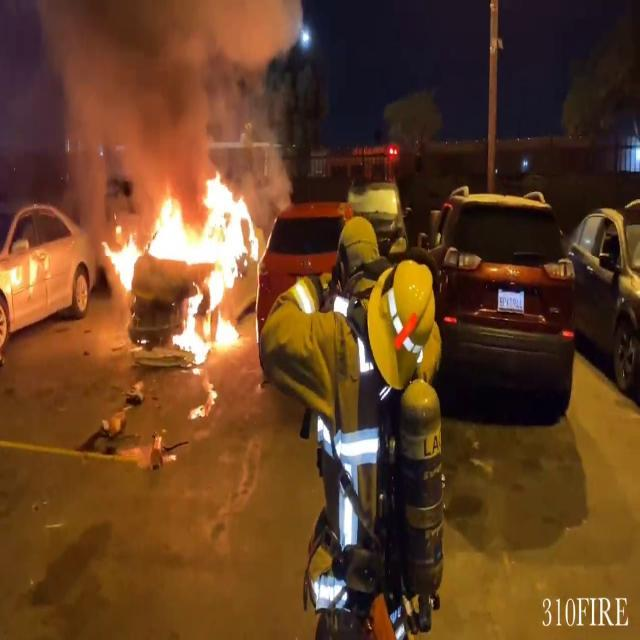Fire: (102, 170, 262, 356)
Smoke: (15, 0, 315, 188)
